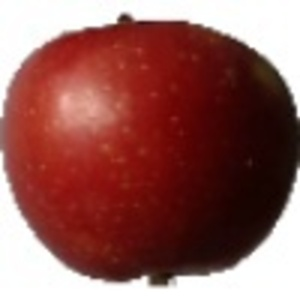maçã braeburn: (1, 15, 300, 287)
